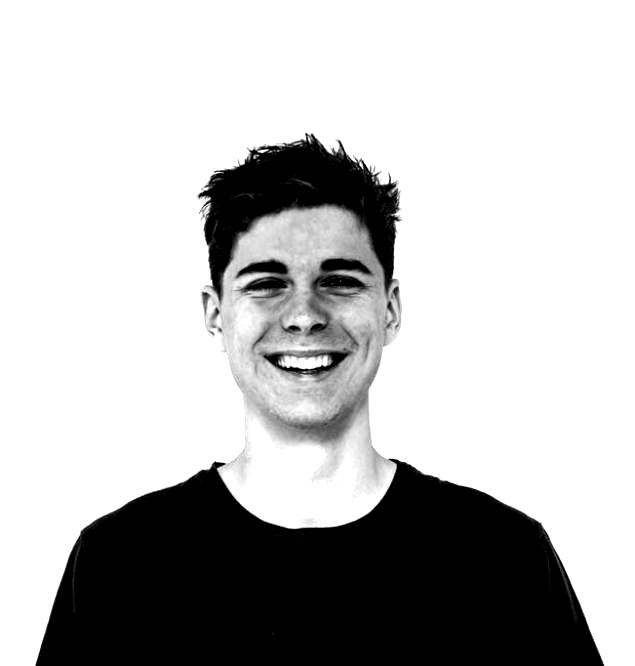face: (221, 209, 385, 430)
